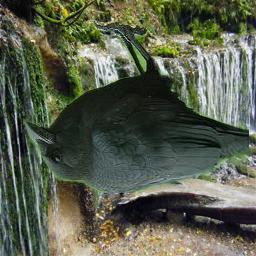Crow: (23, 17, 249, 193)
